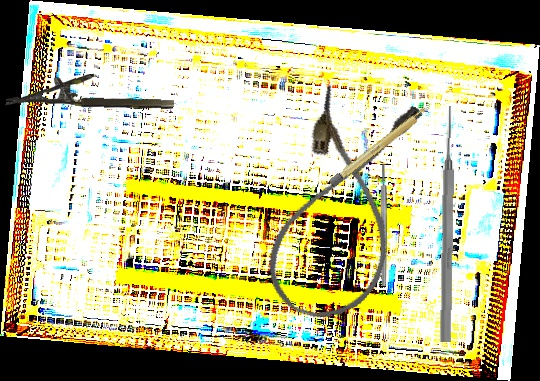Cannula: (256, 79, 431, 333)
Needle Holder: (5, 71, 175, 111)
Pusher: (437, 105, 459, 343)
Scalpel Handle: (328, 103, 433, 188), (380, 164, 387, 286)
